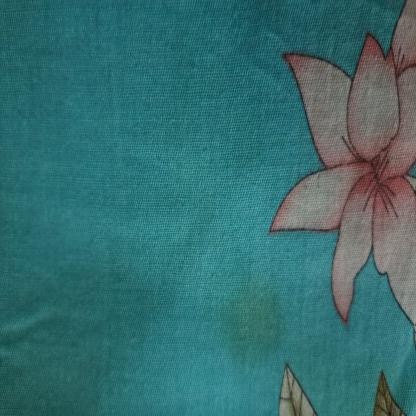spot: (12, 223, 129, 361), (6, 318, 144, 410), (226, 269, 288, 361)
